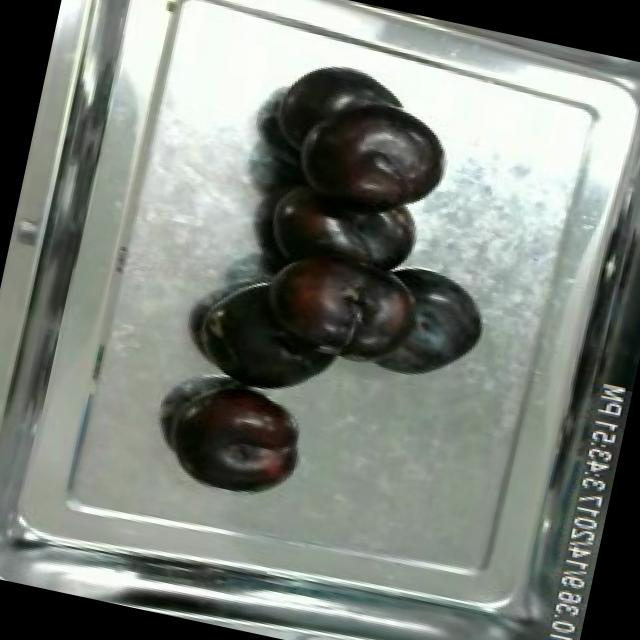Fruit: (281, 78, 464, 238), (160, 369, 314, 504)
